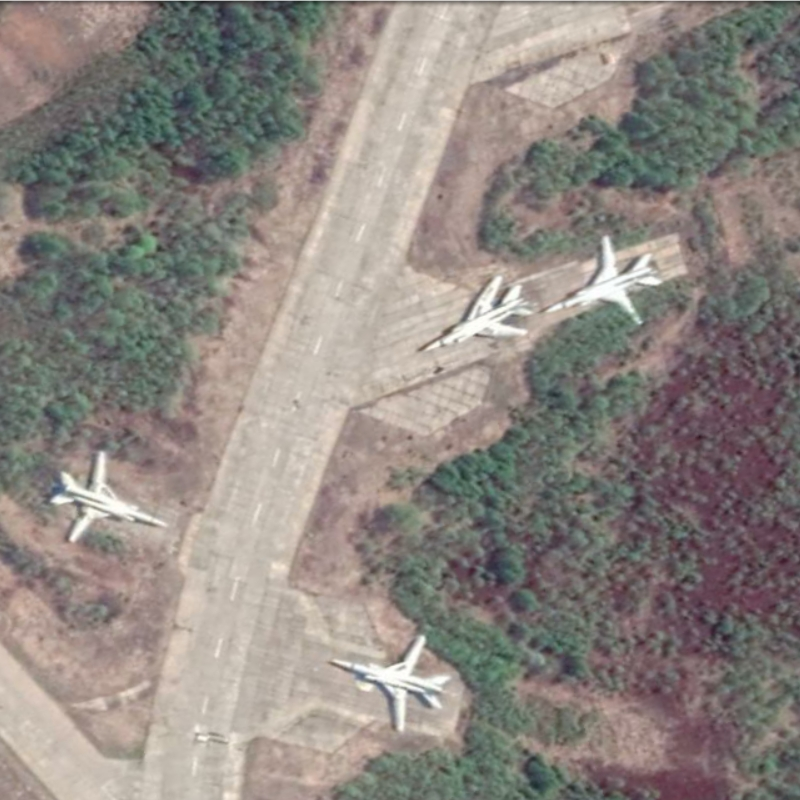A12: (325, 632, 454, 735), (46, 447, 172, 545), (539, 233, 665, 329), (417, 272, 536, 355)
